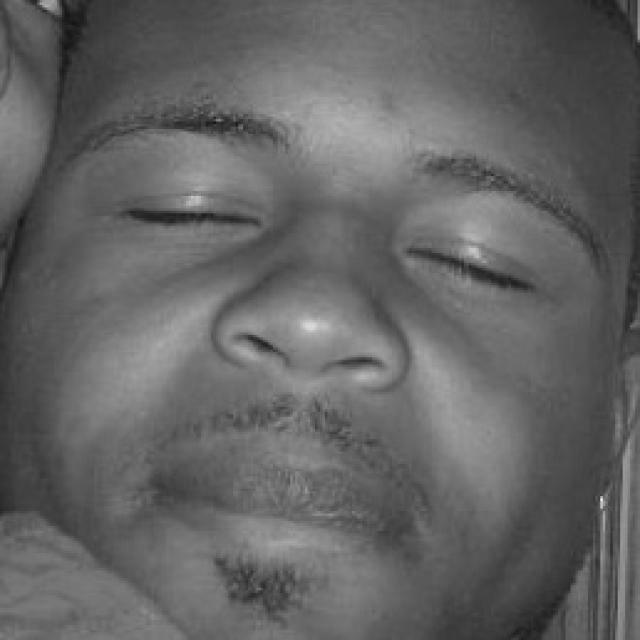real: (8, 0, 632, 640), (101, 154, 558, 316)
